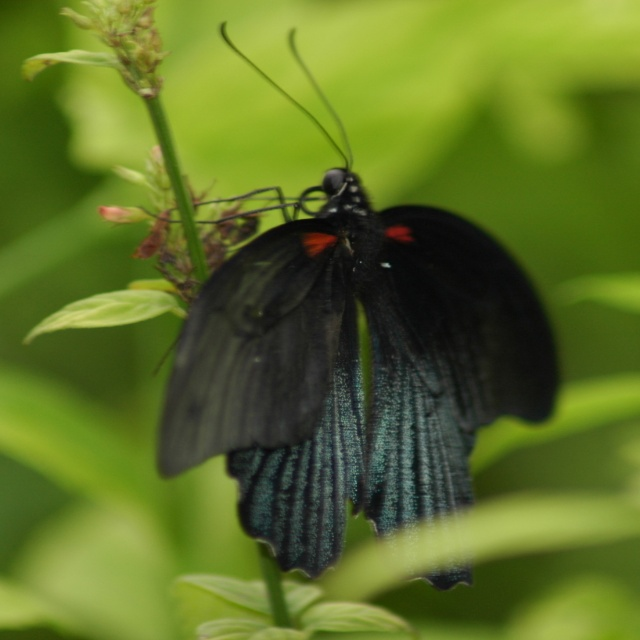Butterfly: (153, 21, 559, 591)
